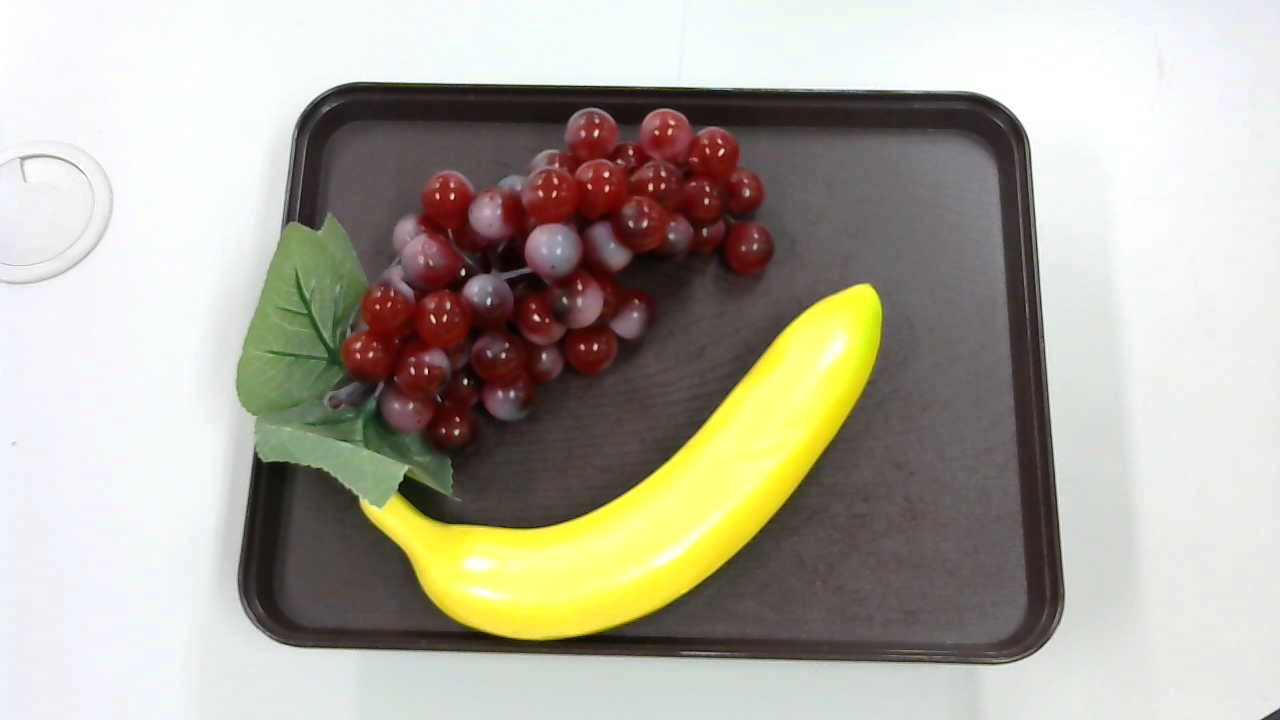banana: (344, 285, 891, 641)
grape: (229, 100, 774, 503)
